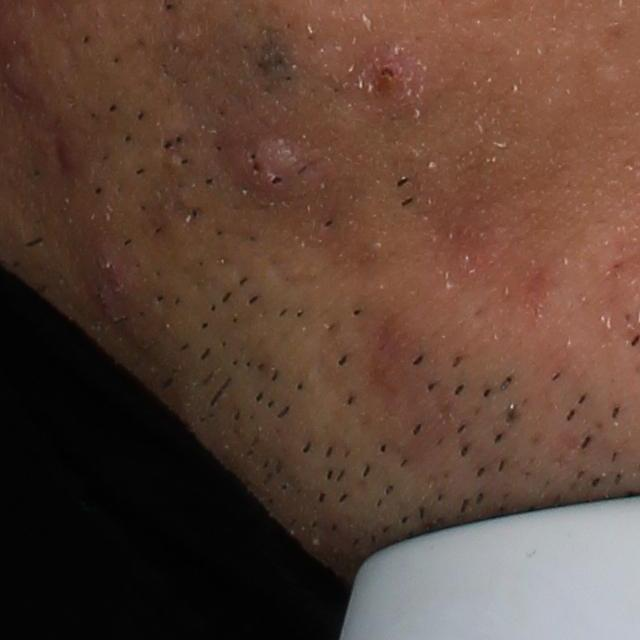nevus: (243, 25, 300, 102)
papule: (213, 126, 341, 228), (357, 36, 415, 103), (83, 241, 139, 301)
